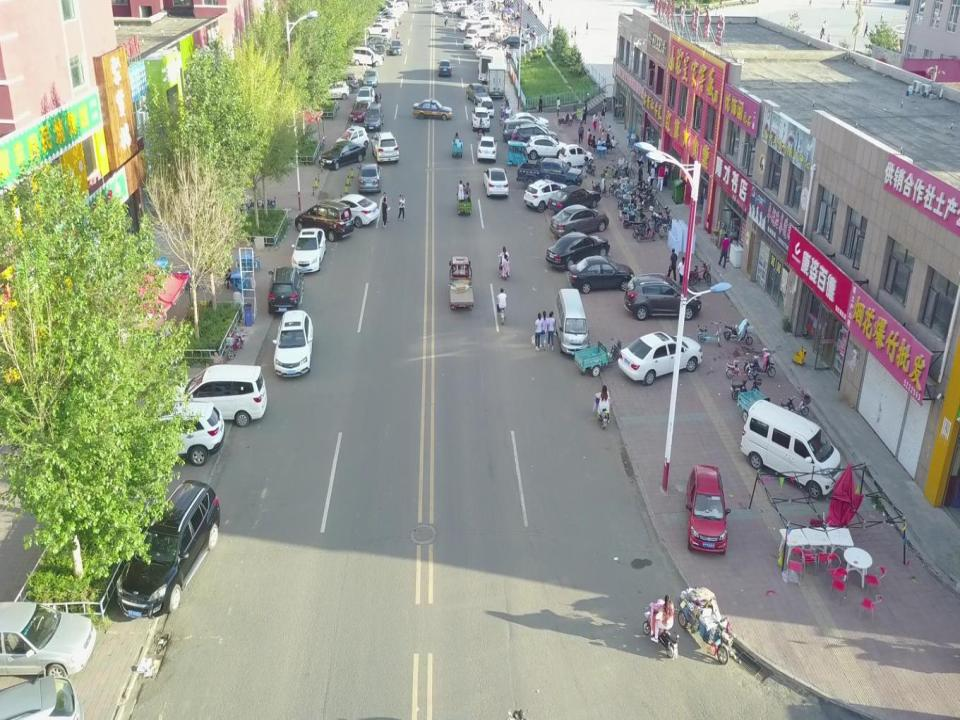car: (115, 478, 221, 622), (0, 600, 97, 682), (122, 400, 226, 468), (618, 331, 703, 387), (686, 464, 730, 556), (623, 272, 702, 320), (0, 676, 83, 720), (272, 310, 315, 378), (568, 255, 635, 294), (546, 232, 610, 271), (318, 194, 380, 228), (550, 204, 609, 239), (268, 266, 304, 314), (290, 227, 327, 273), (548, 185, 601, 214), (524, 179, 569, 213), (318, 140, 366, 170), (510, 122, 558, 148), (524, 135, 569, 160), (502, 112, 549, 133), (371, 131, 400, 164), (336, 125, 369, 153), (412, 98, 452, 120), (558, 144, 594, 168), (483, 167, 510, 197), (357, 162, 381, 193), (350, 46, 383, 67), (362, 102, 384, 132), (328, 73, 359, 93), (322, 81, 350, 100), (350, 100, 374, 122), (477, 136, 498, 161), (466, 83, 490, 104), (471, 107, 490, 133), (354, 87, 374, 111), (501, 35, 530, 49), (477, 97, 495, 119), (476, 44, 502, 58), (462, 34, 482, 51), (363, 68, 378, 88), (437, 59, 452, 77), (373, 43, 387, 60), (389, 40, 403, 56), (366, 37, 388, 47)
truck: (516, 156, 583, 191), (448, 255, 474, 311), (478, 48, 507, 85), (486, 61, 505, 98)
van: (739, 398, 841, 498), (160, 367, 268, 427), (295, 200, 354, 242), (554, 288, 590, 354), (502, 119, 547, 144)
